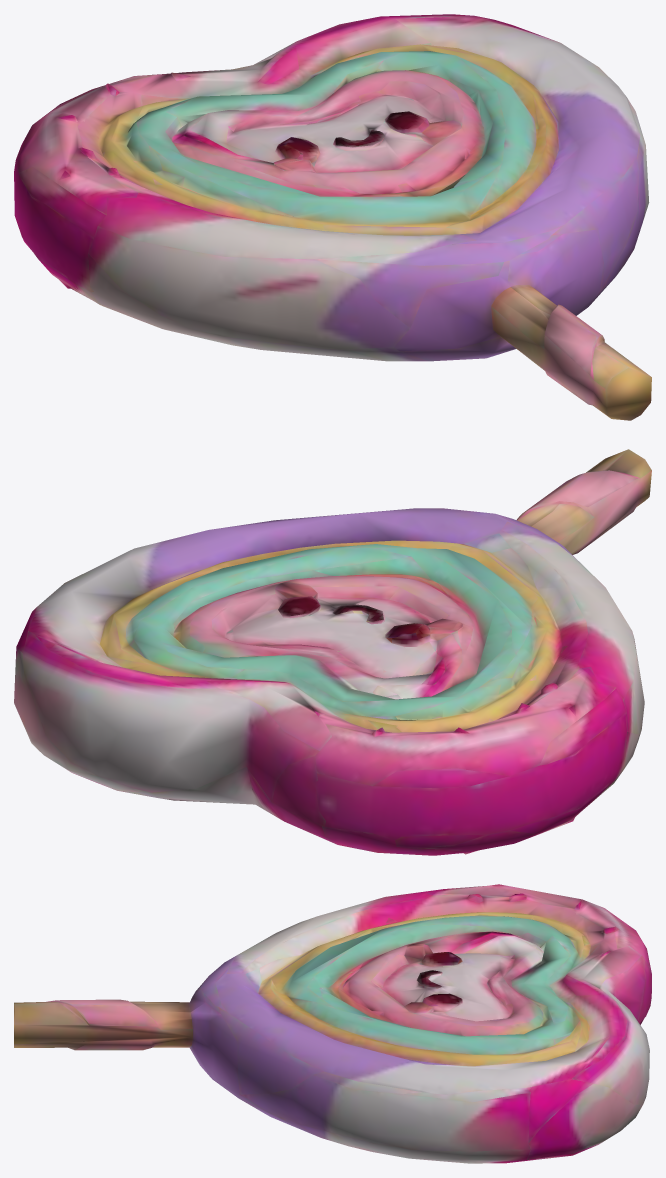
The picture shows the model from 3 angles, top to bottom: view 1: azimuth 30°, elevation 25°; view 2: azimuth 150°, elevation 25°; view 3: azimuth 270°, elevation 25°; orthographic projection. The views are drawn at different scales.
Visible parts, largest first — view 1: material; view 2: material; view 3: material.
Part boxes in pixels (x1,y1,x2,y2): material: (14,14,651,420); material: (14,449,651,855); material: (14,884,651,1163).
Bounding box in the file's own units: 0.7811 × 0.1698 × 1.
1 material, 1 textured.
